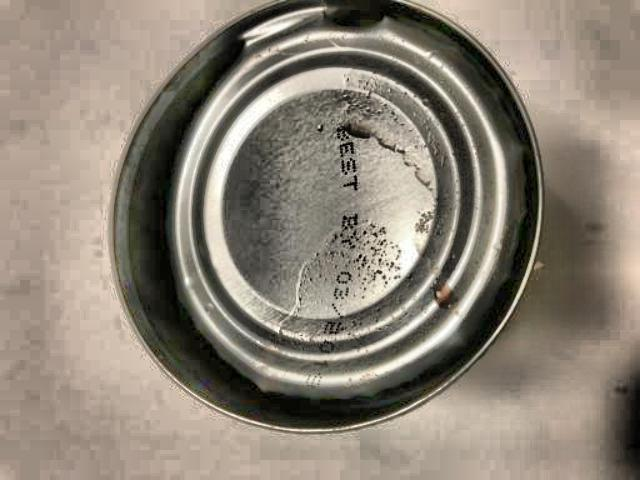Almennt: (99, 0, 555, 450)
